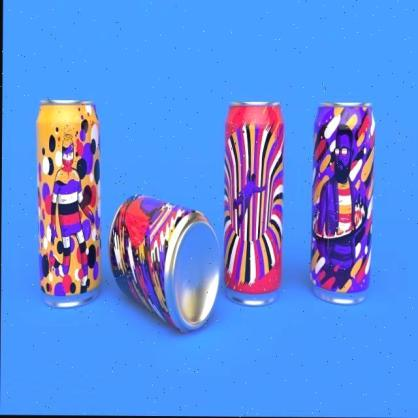can: (36, 101, 104, 308), (310, 101, 378, 304), (225, 97, 286, 305)
